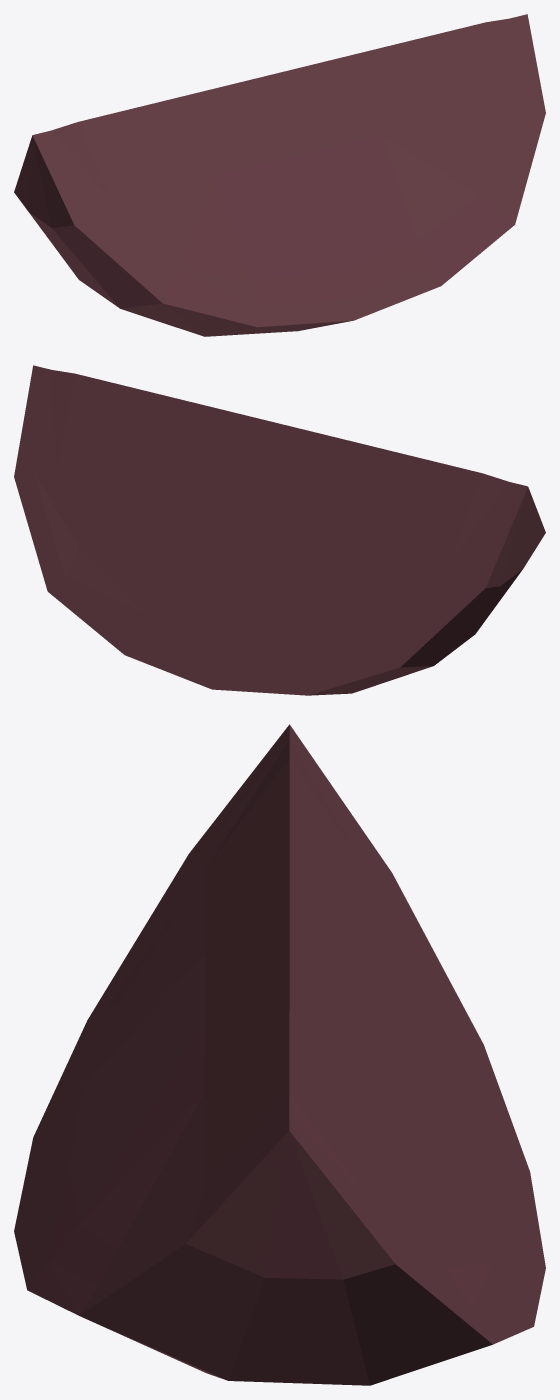
File: melon-slice.fbx
3 views of the same model, one above another, from view 1: azimuth 30°, elevation 25°; view 2: azimuth 150°, elevation 25°; view 3: azimuth 270°, elevation 25° (orthographic). The views are drawn at different scales.
Visible parts, largest first — view 1: melon-slice; view 2: melon-slice; view 3: melon-slice.
Boxes of the visible parts, x1,y1,x2,y2 form: melon-slice: (14, 14, 545, 336); melon-slice: (14, 365, 545, 695); melon-slice: (14, 724, 545, 1385).
Size of the model in its own units: 0.3859 by 0.1796 by 0.2133.
